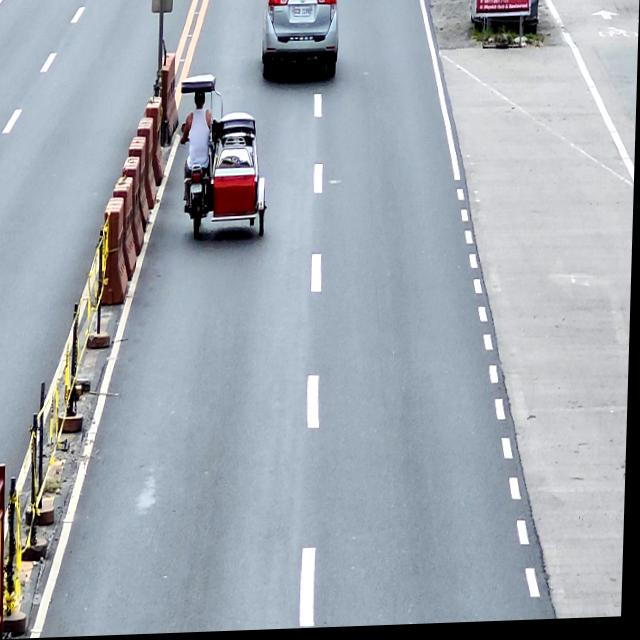Car: (261, 0, 342, 84)
License-Plate: (294, 8, 311, 18), (191, 185, 203, 195)
Tricycle: (179, 75, 271, 239)
